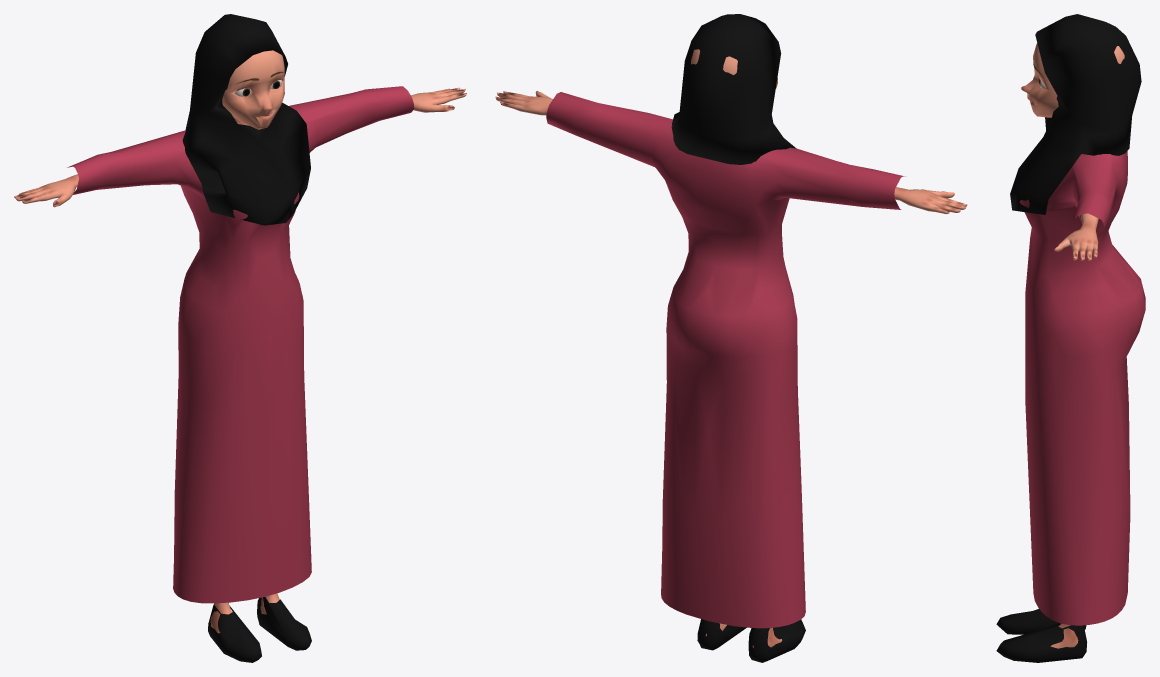
The model's file is c_hijab2.glb.
3 renders of one model, left to right at view 1: azimuth 30°, elevation 25°; view 2: azimuth 150°, elevation 25°; view 3: azimuth 270°, elevation 25°, orthographic. The views are drawn at different scales.
Parts seen in each view (by area): view 1: Box001_01 - Default_0, 1, 3; view 2: Box001_01 - Default_0, 3; view 3: Box001_01 - Default_0, 1, 3, 4.
Part boxes in pixels (x1,y1,x2,y2): Box001_01 - Default_0: (67, 14, 413, 662); 1: (222, 50, 284, 129); 3: (14, 88, 466, 207); Box001_01 - Default_0: (546, 14, 905, 662); 3: (496, 90, 967, 214); Box001_01 - Default_0: (996, 14, 1145, 662); 1: (1021, 43, 1124, 117); 3: (1054, 213, 1098, 260); 4: (1050, 623, 1078, 648).
Bounding box in the file's own units: 1.18 × 1.53 × 0.3309.
Materials: 10 (9 with a texture image).
